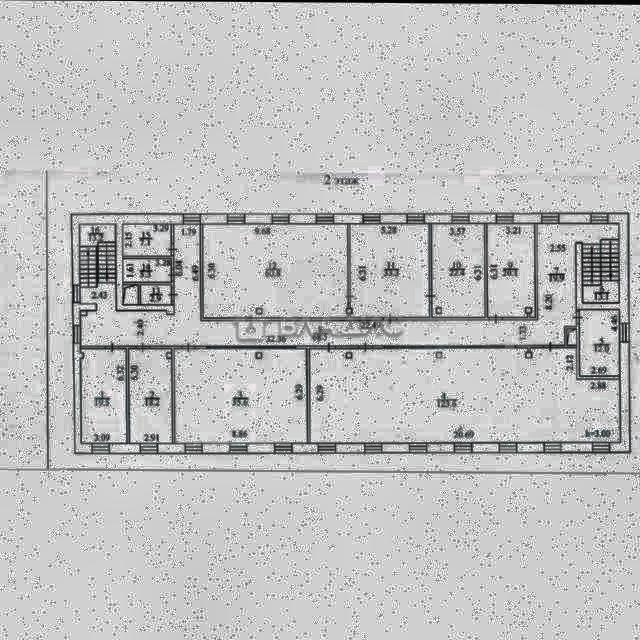room: (80, 222, 620, 345), (310, 346, 620, 442), (202, 224, 347, 316), (175, 348, 307, 442), (350, 224, 429, 317), (432, 222, 484, 316), (488, 223, 534, 315), (81, 348, 126, 442), (129, 348, 171, 442), (579, 308, 619, 375), (123, 223, 171, 255), (123, 258, 171, 281), (140, 284, 171, 304)
